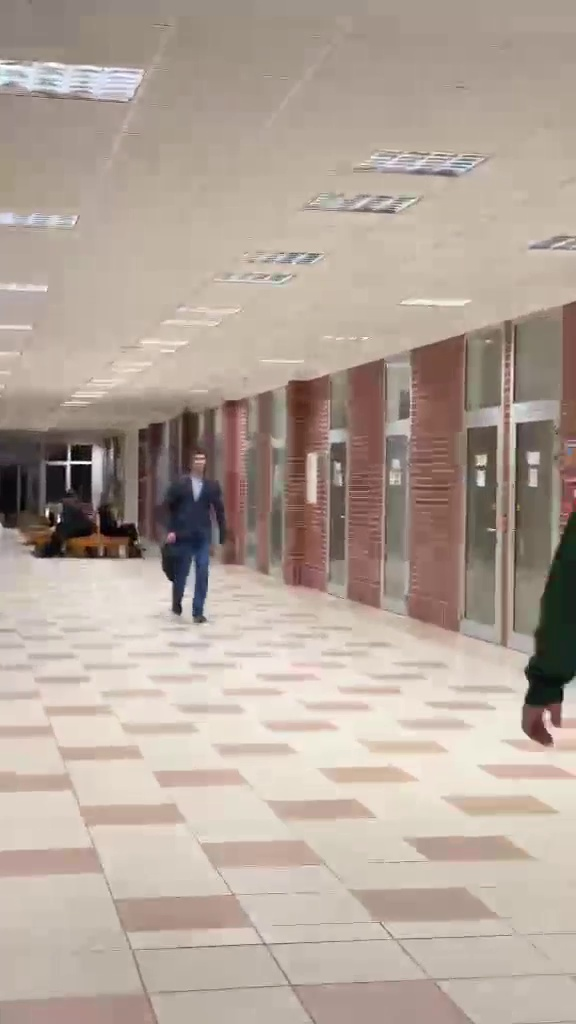no vest: (151, 448, 232, 613)
